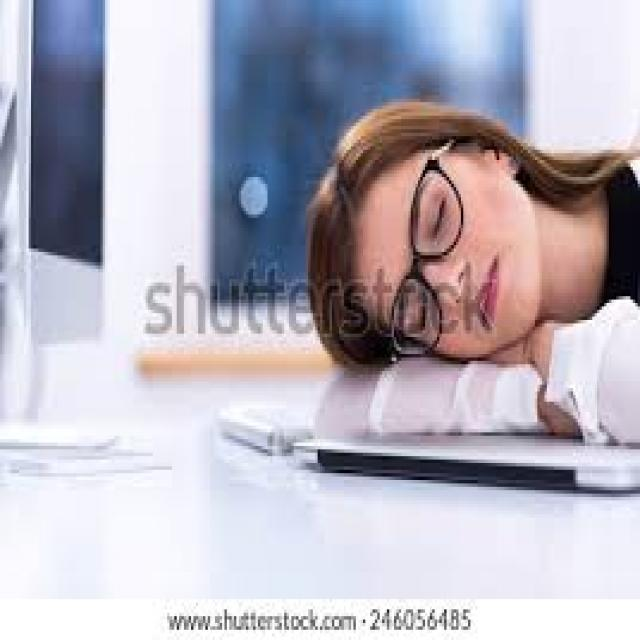Glasses: (385, 144, 466, 372)
